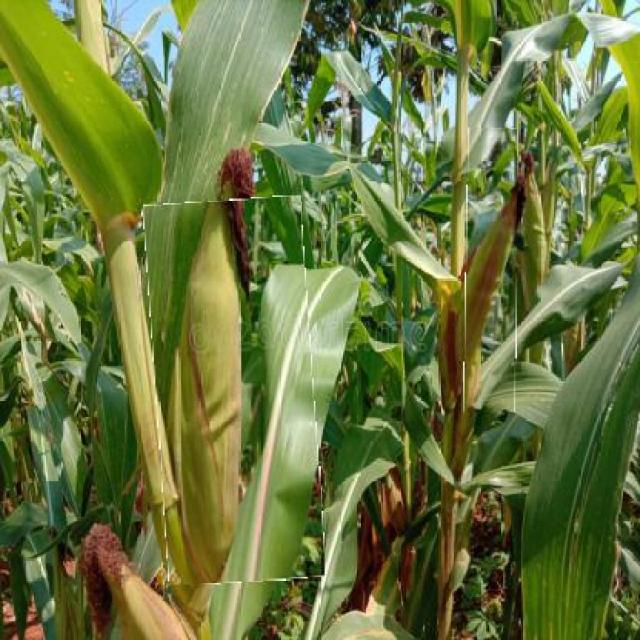Corn: (151, 198, 320, 584), (464, 128, 518, 414)
